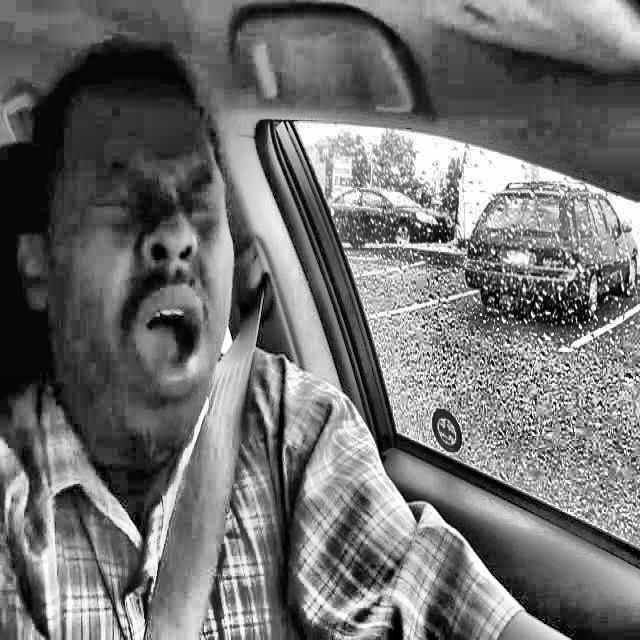closed_eyes: (76, 173, 160, 235), (177, 179, 240, 233)
open_mouth: (111, 274, 225, 415)
